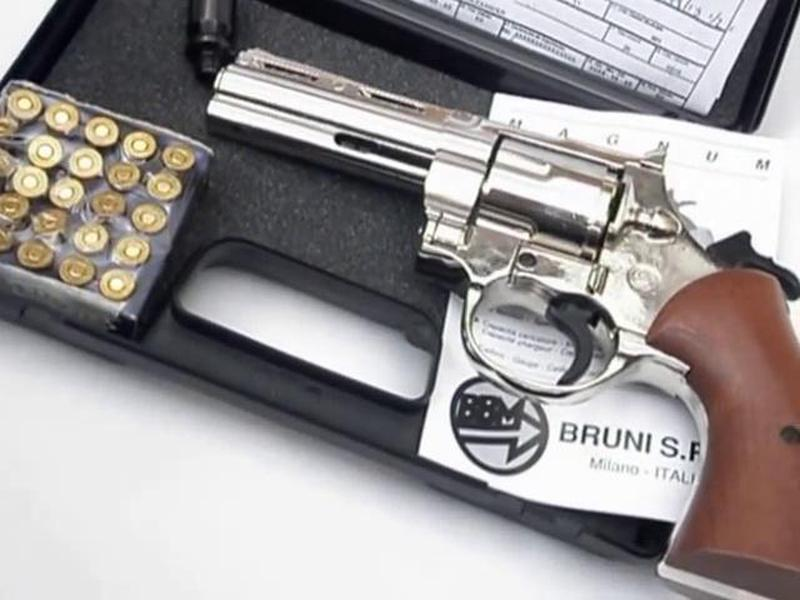Revolver: (206, 38, 800, 488)
